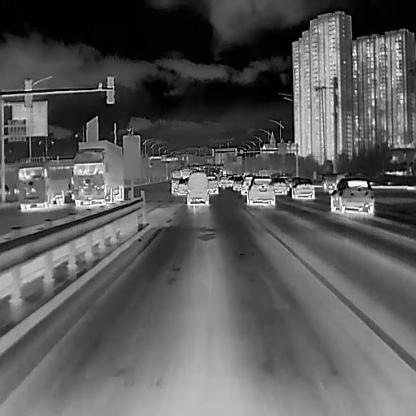car: (330, 177, 373, 215), (185, 172, 209, 206), (248, 176, 274, 206), (291, 175, 315, 199), (240, 176, 257, 194), (272, 174, 286, 195), (206, 175, 218, 194), (177, 175, 186, 195), (233, 173, 241, 189), (172, 178, 180, 194)
truck: (71, 140, 123, 206), (18, 163, 66, 207)
